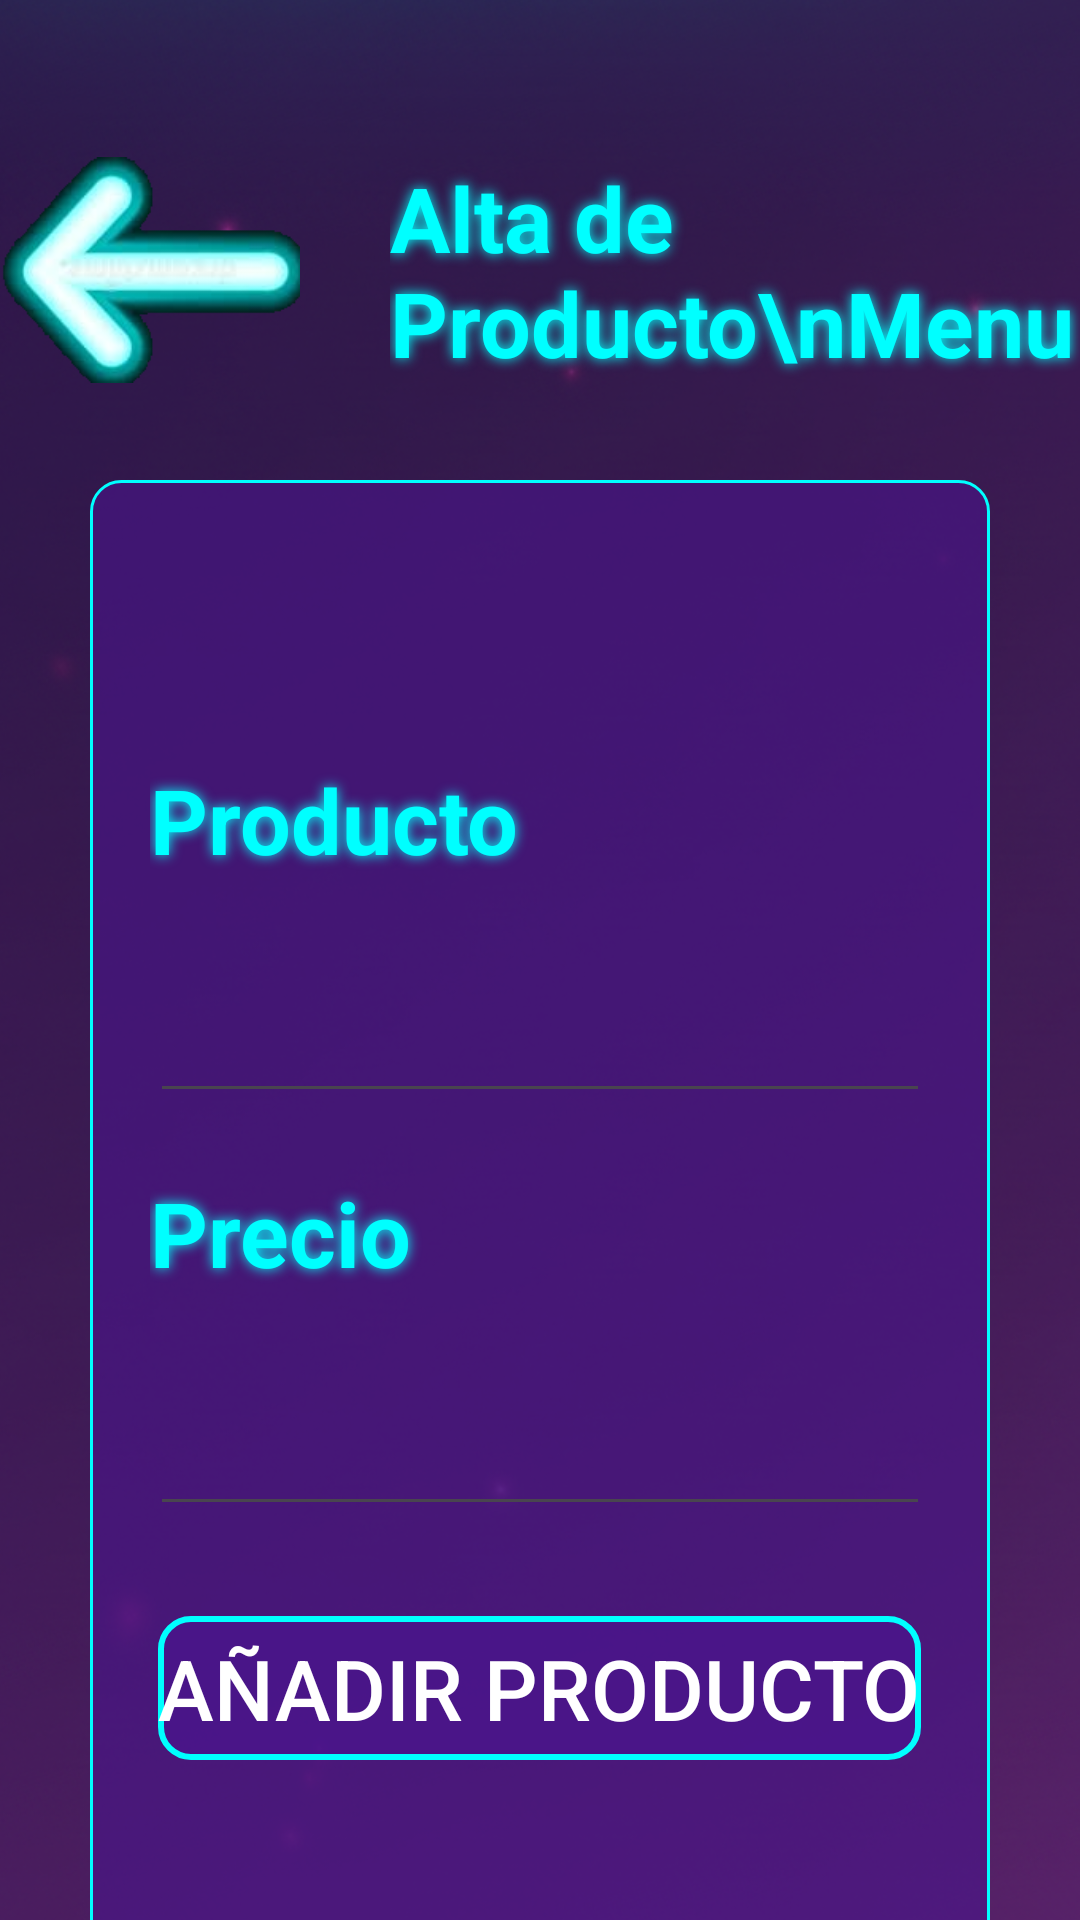

Named icons in this screenshot (1080 × 1920) and their bounding boxes, (left=x1, top=y1, right=x2, bottom=y2):
atras: (left=3, top=157, right=300, bottom=383)
